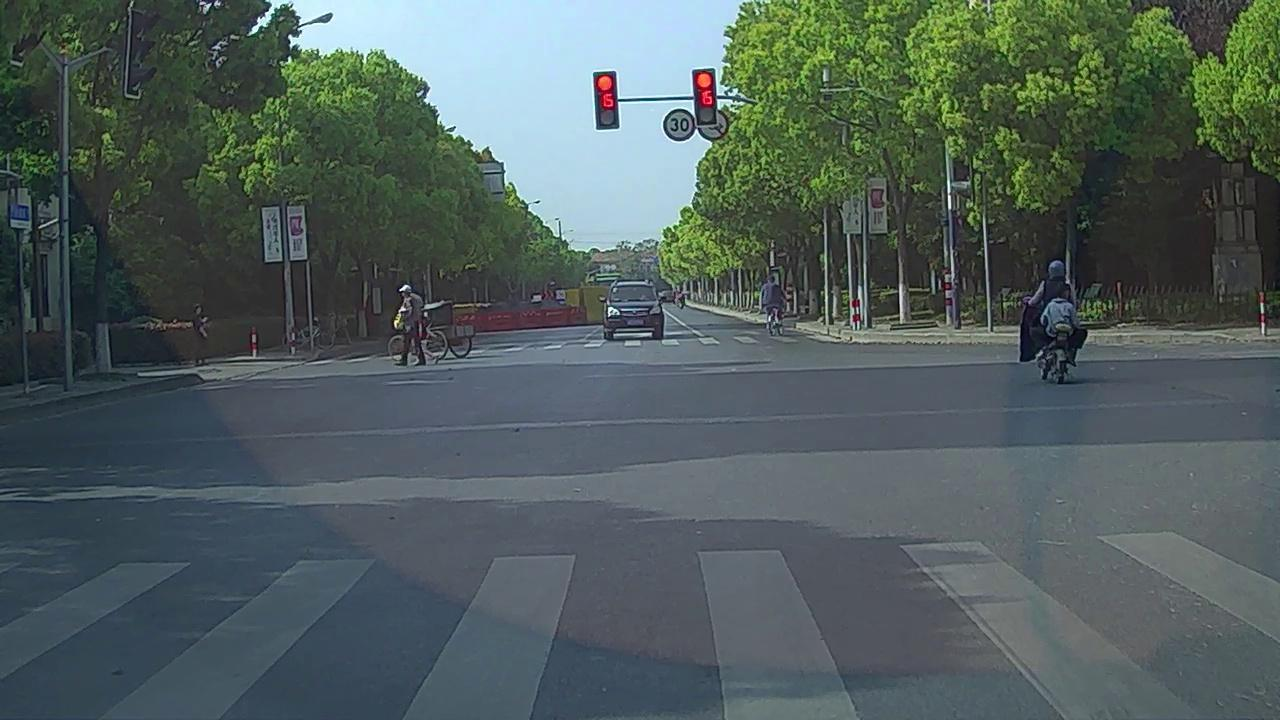traffic_light: (593, 73, 619, 128), (692, 72, 717, 127)
